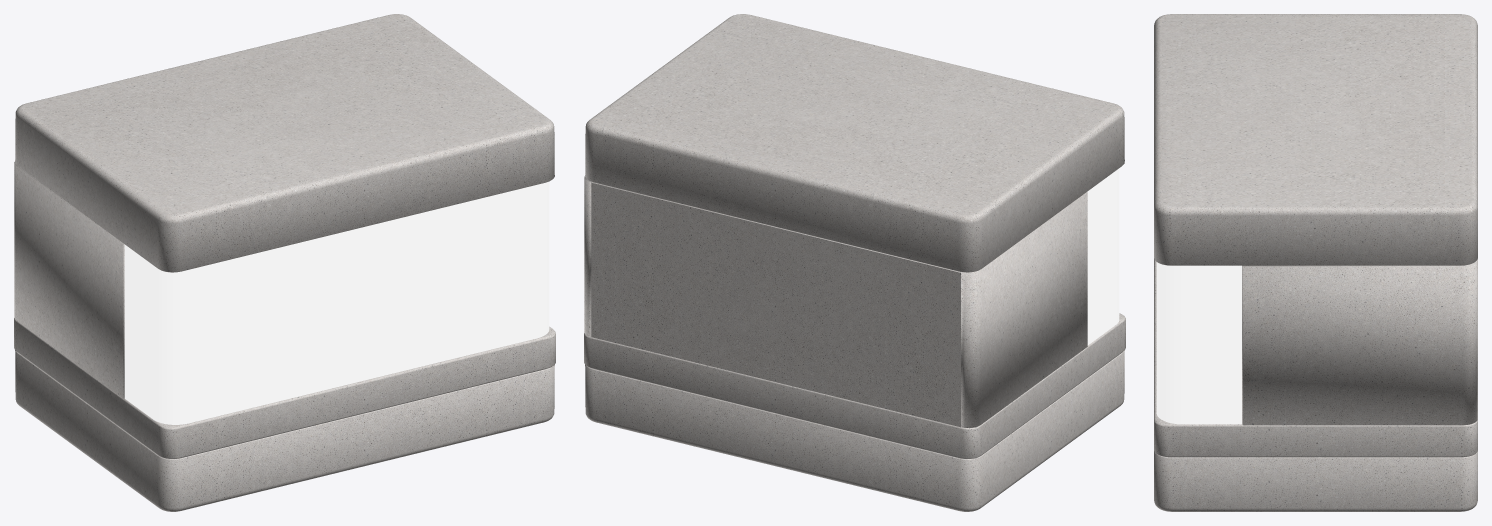
Rendered from IDEAL_Terminal.glb.
3 views of the same model, side by side, from view 1: azimuth 30°, elevation 25°; view 2: azimuth 150°, elevation 25°; view 3: azimuth 270°, elevation 25° (orthographic). The views are drawn at different scales.
Parts seen in each view (by area): view 1: Terminal_Top, Terminal_Screen, Terminal_Bottom2, Terminal_Bottom1, Terminal_Body; view 2: Terminal_Top, Terminal_Body, Terminal_Bottom2, Terminal_Bottom1, Terminal_Screen; view 3: Terminal_Top, Terminal_Body, Terminal_Bottom2, Terminal_Screen, Terminal_Bottom1.
Part boxes in pixels (left/top/right/bottom): Terminal_Top: left=15, top=14, right=554, bottom=272; Terminal_Screen: left=124, top=181, right=549, bottom=424; Terminal_Bottom2: left=15, top=350, right=554, bottom=511; Terminal_Bottom1: left=14, top=318, right=555, bottom=458; Terminal_Body: left=14, top=161, right=124, bottom=398; Terminal_Top: left=585, top=14, right=1124, bottom=272; Terminal_Body: left=584, top=176, right=1087, bottom=428; Terminal_Bottom2: left=585, top=350, right=1124, bottom=511; Terminal_Bottom1: left=584, top=313, right=1125, bottom=458; Terminal_Screen: left=1087, top=168, right=1119, bottom=345; Terminal_Top: left=1154, top=14, right=1477, bottom=265; Terminal_Body: left=1242, top=259, right=1477, bottom=425; Terminal_Bottom2: left=1154, top=451, right=1477, bottom=511; Terminal_Screen: left=1156, top=262, right=1241, bottom=424; Terminal_Bottom1: left=1154, top=258, right=1477, bottom=457.
Size of the model in its own units: 1.49 by 1.07 by 1.03.
2 materials, 1 textured.
